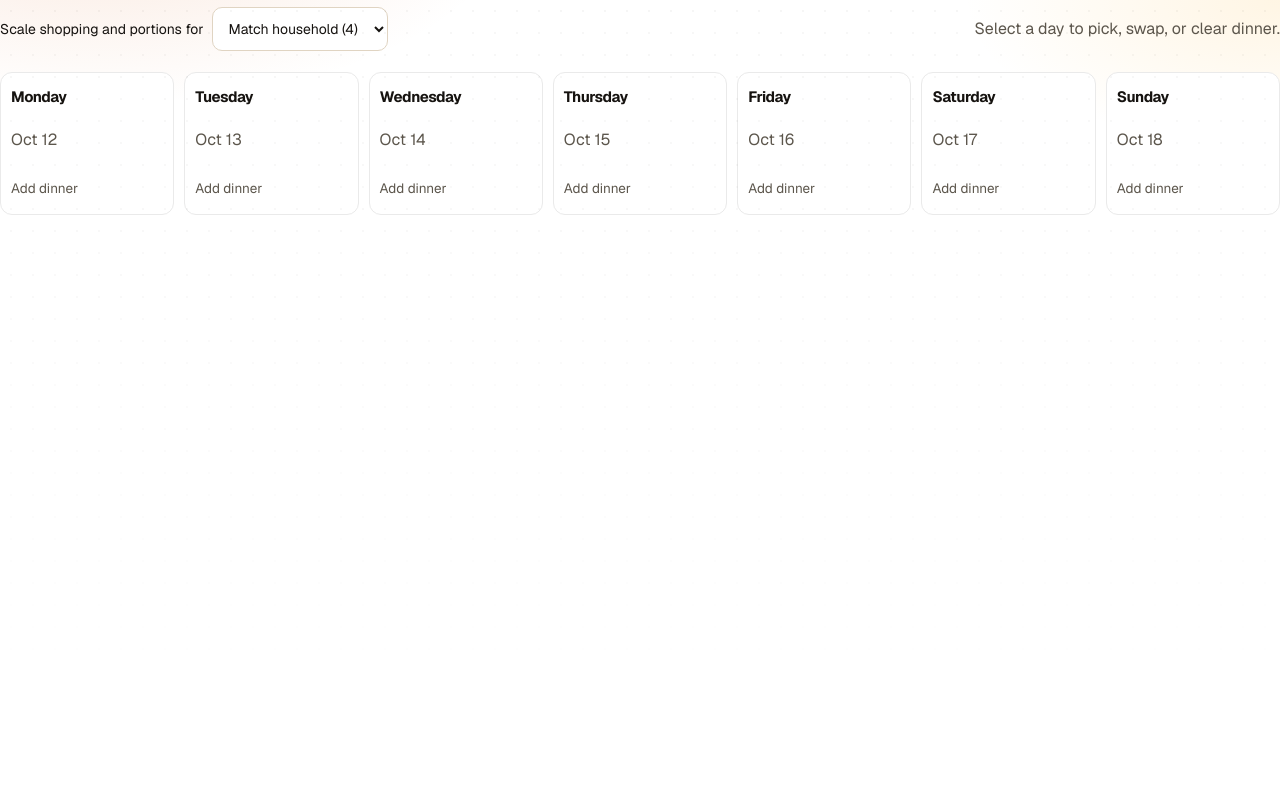
MealPlanWeek › shows a visible error and retry when adding dinner fails
Click the button "Wednesday Oct 14 Add dinner".
click(456, 142)  # box [380, 85, 532, 200]
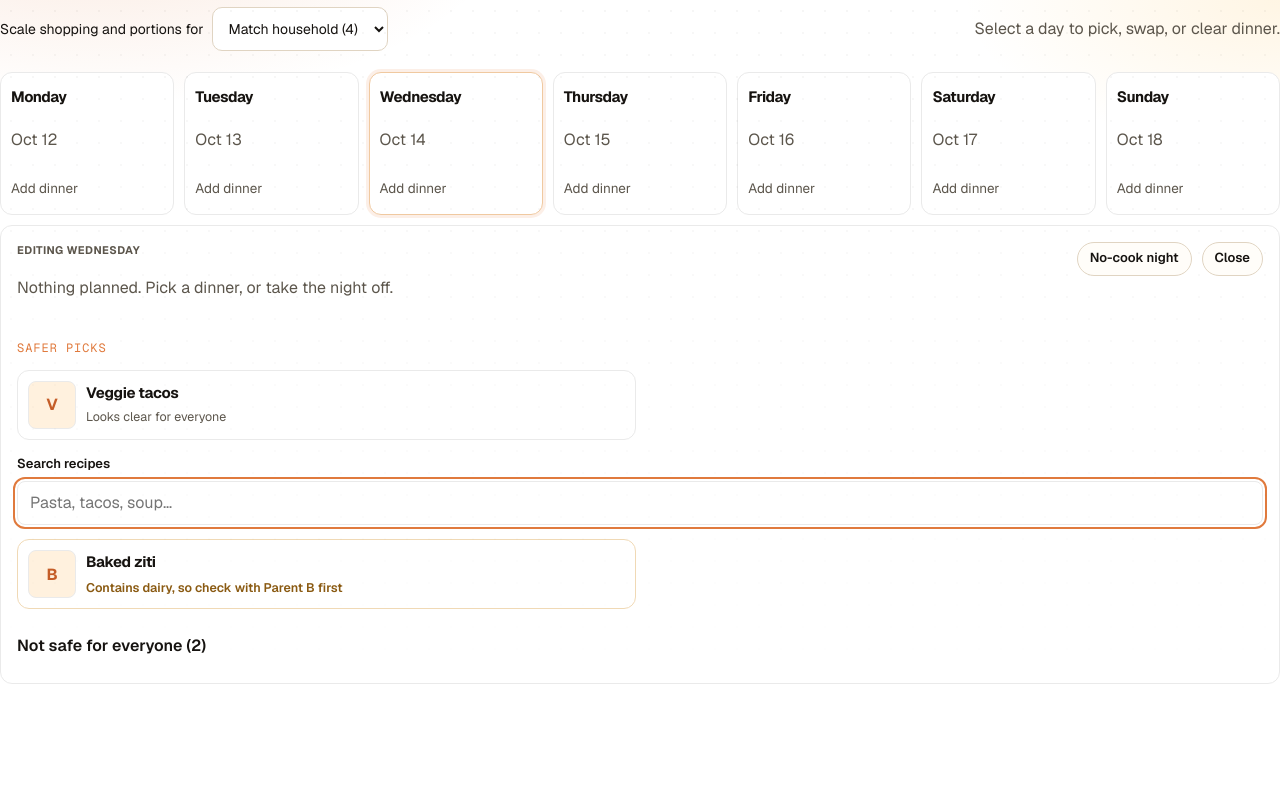
Click the button "V Veggie tacos Looks clear for everyone".
click(52, 405)  # box [17, 370, 636, 440]
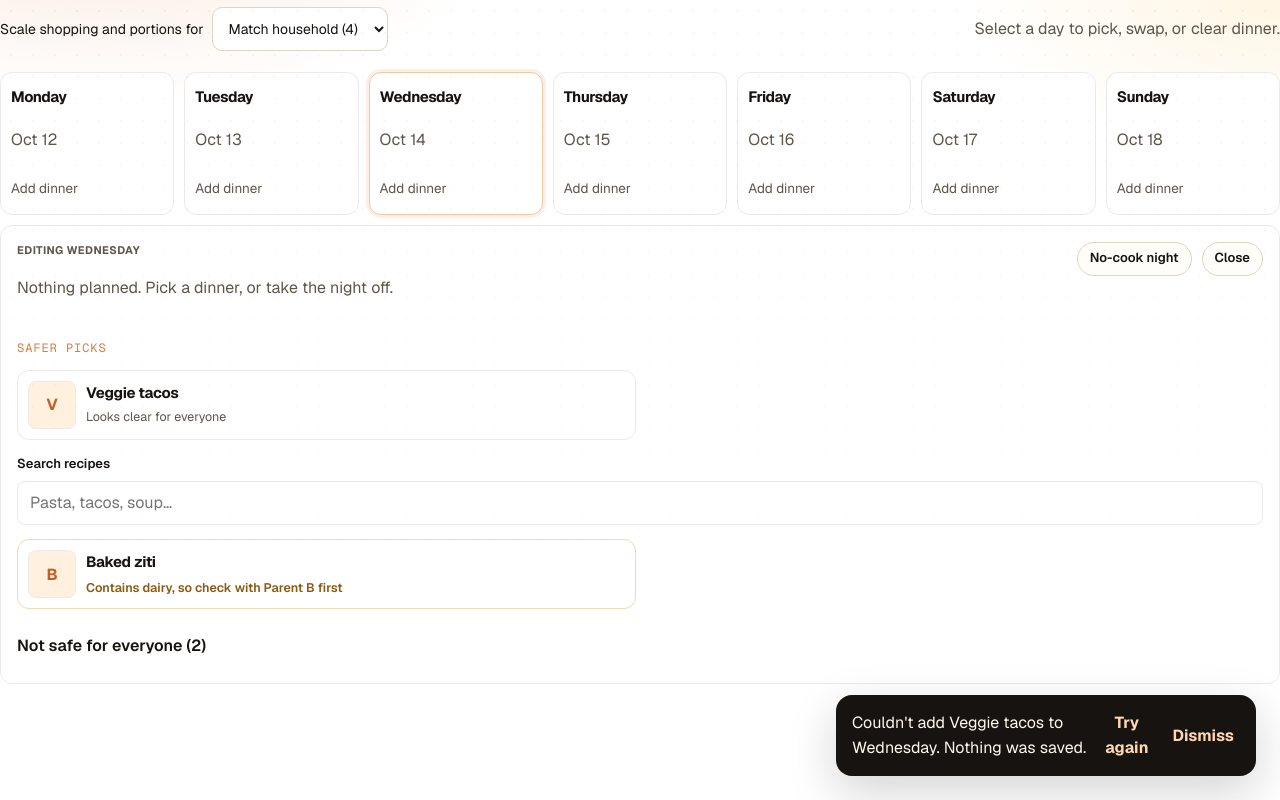
expect the message shows "Couldn't add Veggie tacos to Wednesday. Nothing was saved.": met, box [852, 712, 1086, 758]
expect the button "Try again" is shown: met
expect the button "Dismiss" is shown: met, box [1166, 722, 1240, 749]
Click the button "Try again".
click(1127, 735)  # box [1099, 709, 1154, 762]
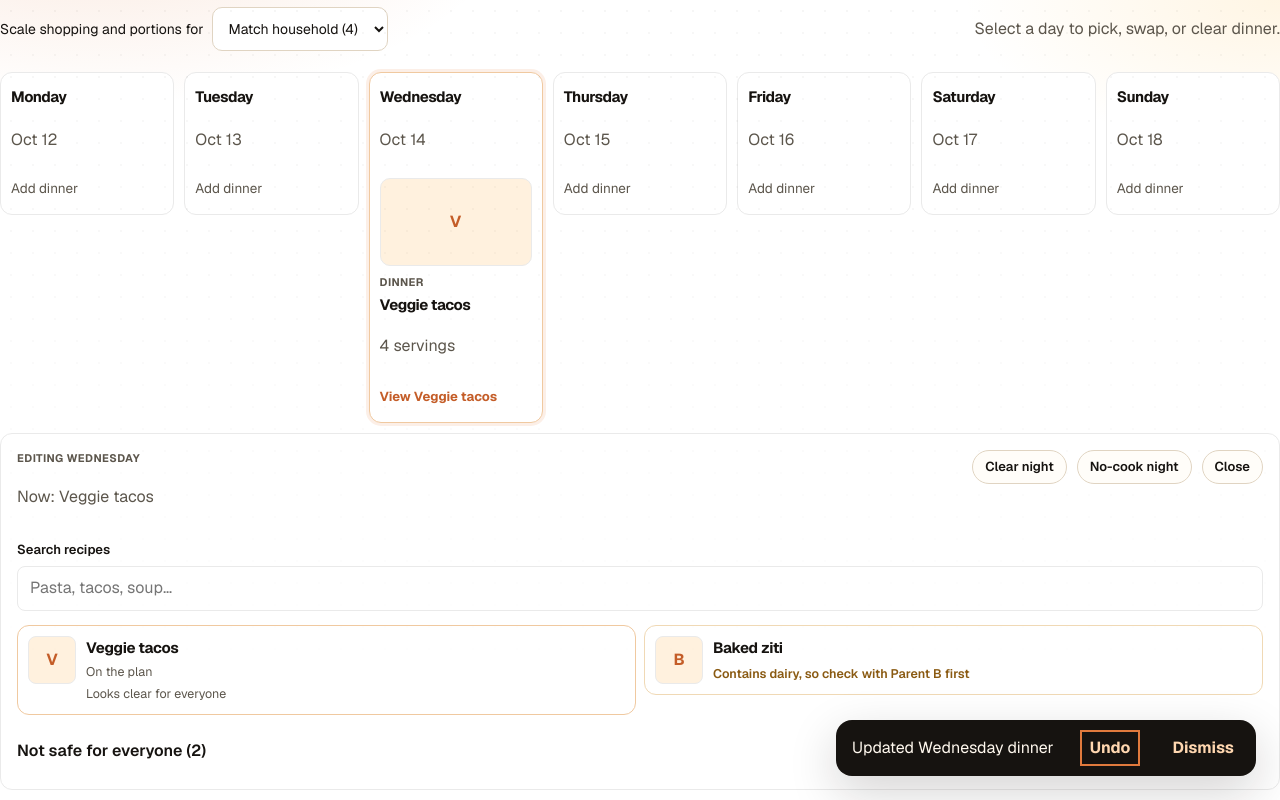
expect the heading "Veggie tacos" is shown: met, box [380, 295, 470, 314]
